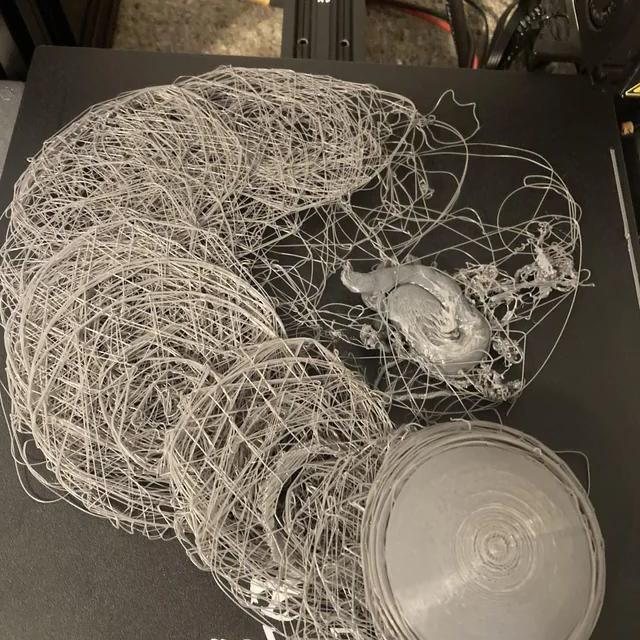spaghetti: (15, 284, 208, 458), (192, 71, 392, 216), (164, 362, 348, 508), (52, 113, 184, 257), (284, 446, 386, 605), (467, 222, 582, 324), (279, 199, 401, 267), (257, 268, 351, 352), (394, 102, 468, 208), (368, 345, 448, 409)
